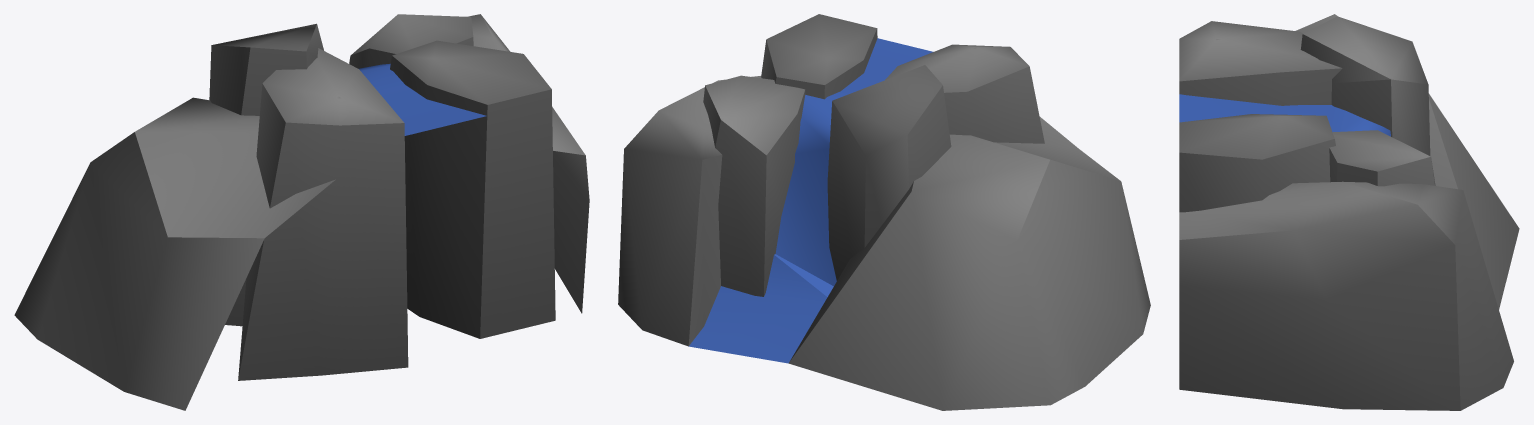
File: Waterfall_Small.glb
The picture shows the model from 3 angles, left to right: view 1: azimuth 30°, elevation 25°; view 2: azimuth 150°, elevation 25°; view 3: azimuth 270°, elevation 25°; orthographic projection. The views are drawn at different scales.
Parts seen in each view (by area): view 1: unnamed; view 2: unnamed; view 3: unnamed.
Boxes of the visible parts, x1,y1,x2,y2 form: unnamed: [14, 14, 589, 410]; unnamed: [618, 14, 1150, 410]; unnamed: [1179, 14, 1519, 410].
Bounding box in the file's own units: 8.65 × 4.79 × 5.53.
1 material, 1 textured.
